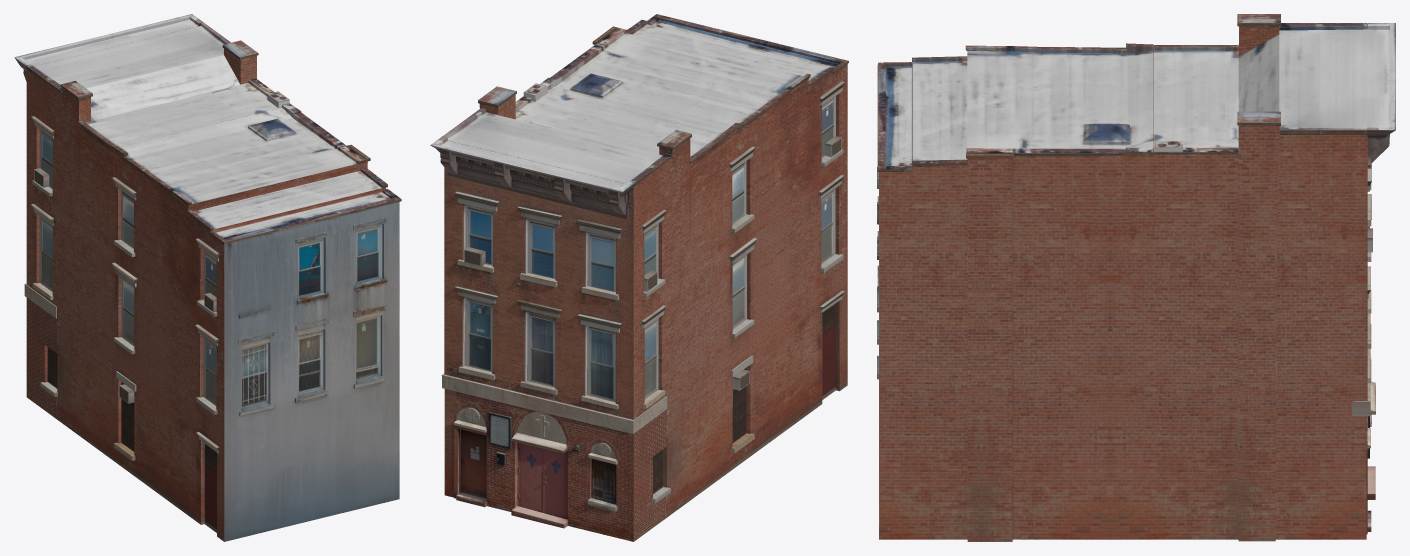
Rendered from brooklyn_street_cornerhouse_low_poly.glb.
The picture shows the model from 3 angles, left to right: view 1: azimuth 30°, elevation 25°; view 2: azimuth 150°, elevation 25°; view 3: azimuth 270°, elevation 25°; orthographic projection. The views are drawn at different scales.
Parts seen in each view (by area): view 1: fc2_low.001_0; view 2: fc2_low.001_0; view 3: fc2_low.001_0.
Boxes of the visible parts, left/top/right/bottom form: fc2_low.001_0: left=14, top=14, right=401, bottom=541; fc2_low.001_0: left=430, top=14, right=848, bottom=541; fc2_low.001_0: left=877, top=14, right=1395, bottom=541.
Size of the model in its own units: 6.77 by 11.88 by 13.32.
Materials: 1 (1 with a texture image).
